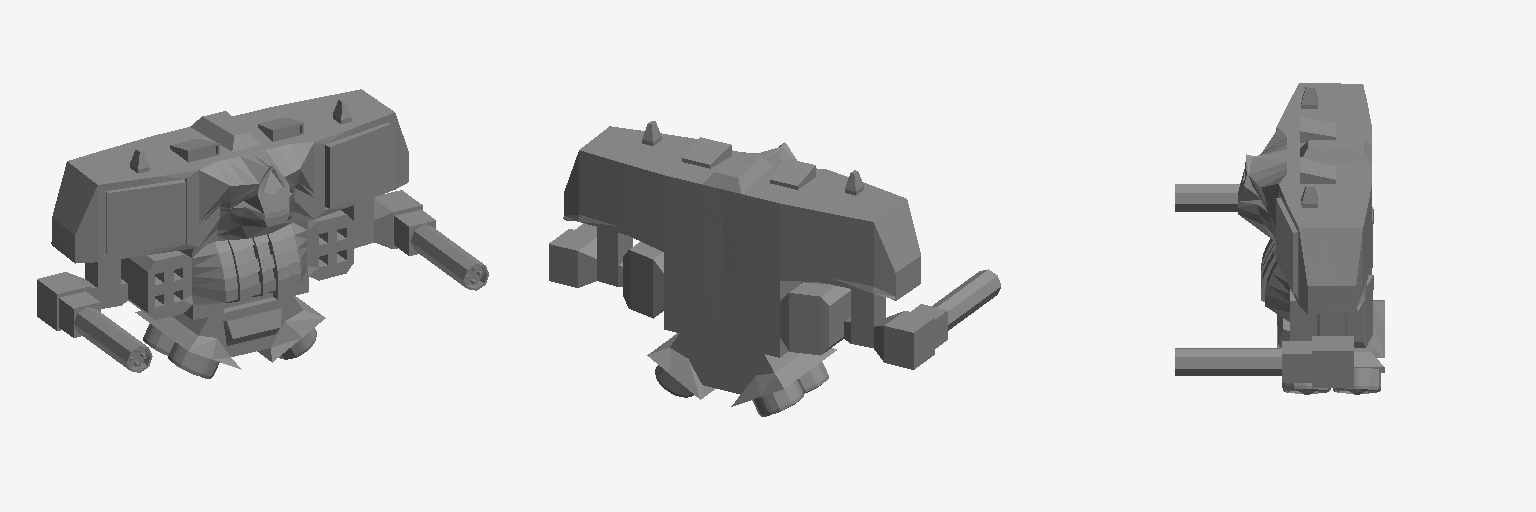
The model's file is MachinegunRobot.obj.
The picture shows the model from 3 angles: view 1: azimuth 30°, elevation 25°; view 2: azimuth 150°, elevation 25°; view 3: azimuth 270°, elevation 25°; orthographic projection.
Visible parts, largest first — view 1: Body; view 2: Body; view 3: Body.
Boxes of the visible parts, <box> form: Body: <box>37,89,488,378</box>; Body: <box>549,121,1000,416</box>; Body: <box>1175,83,1384,394</box>.
Bounding box in the file's own units: 98.97 × 61.97 × 49.1.